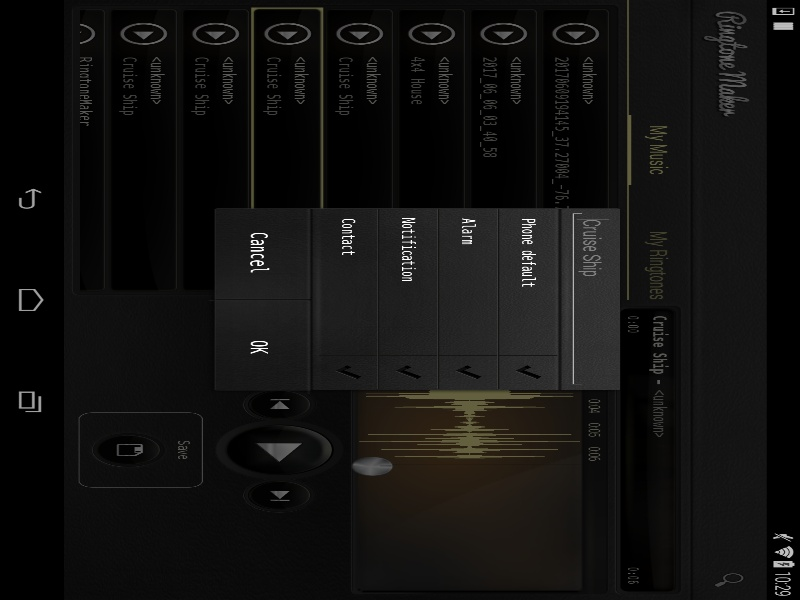Button: (438, 229, 640, 278)
